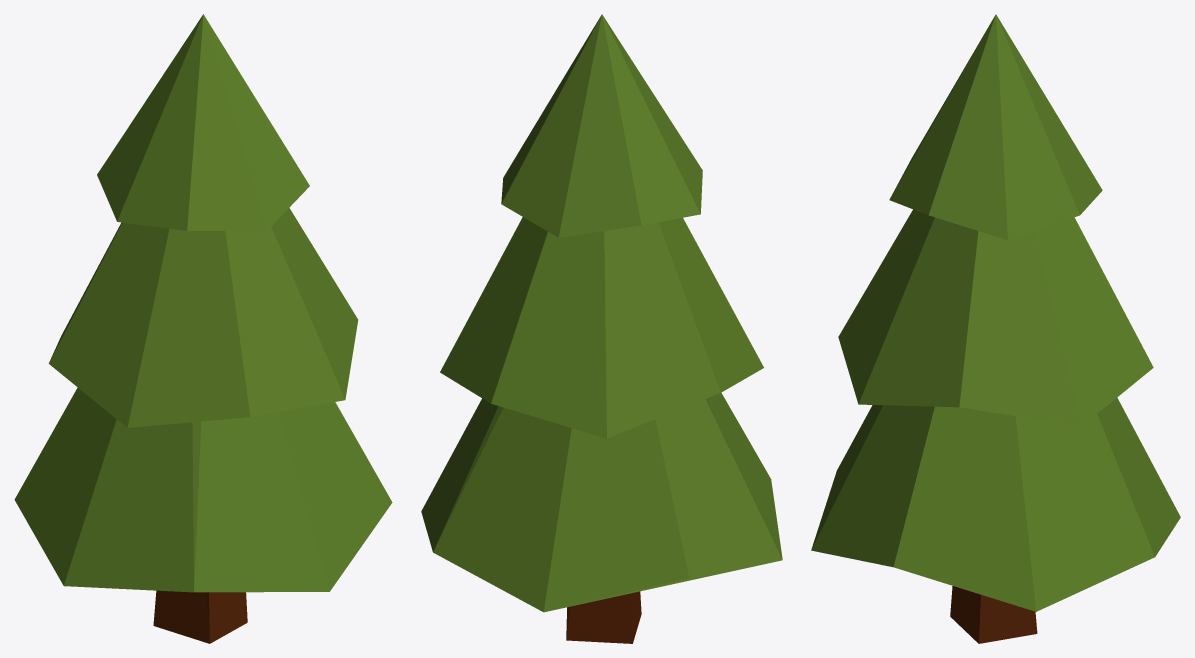
The model's file is Tree Big 2.fbx.
3 views of the same model, side by side, from view 1: azimuth 30°, elevation 25°; view 2: azimuth 150°, elevation 25°; view 3: azimuth 270°, elevation 25° (orthographic).
Visible parts, largest first — view 1: Tree_Big_02; view 2: Tree_Big_02; view 3: Tree_Big_02.
Boxes of the visible parts, box(x1,y1,x2,y2) form: Tree_Big_02: box(14, 14, 392, 643); Tree_Big_02: box(421, 14, 782, 643); Tree_Big_02: box(811, 14, 1180, 643).
Size of the model in its own units: 153 by 280 by 153.
